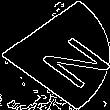N_NW: (10, 23, 100, 87)
